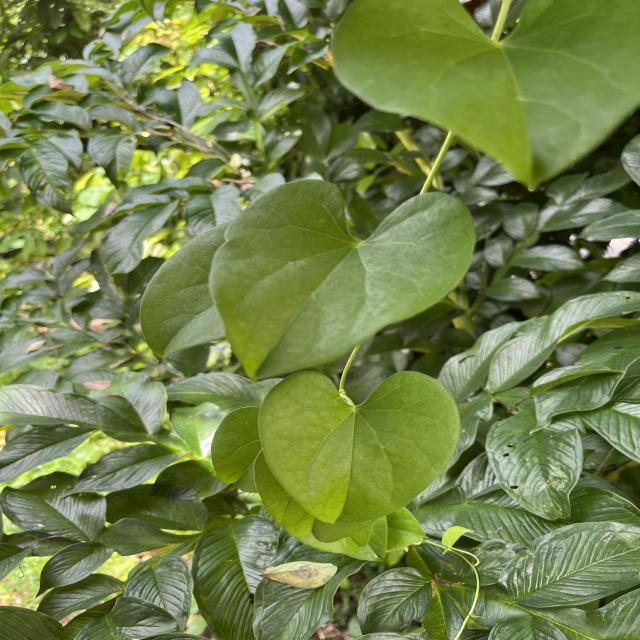Tinospora cordifolia: (207, 172, 480, 385), (254, 366, 466, 527)
